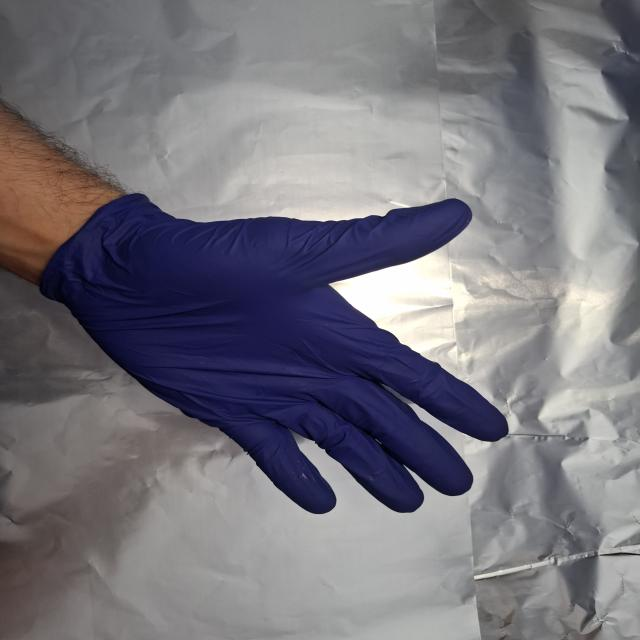glove_on: (38, 192, 512, 518)
